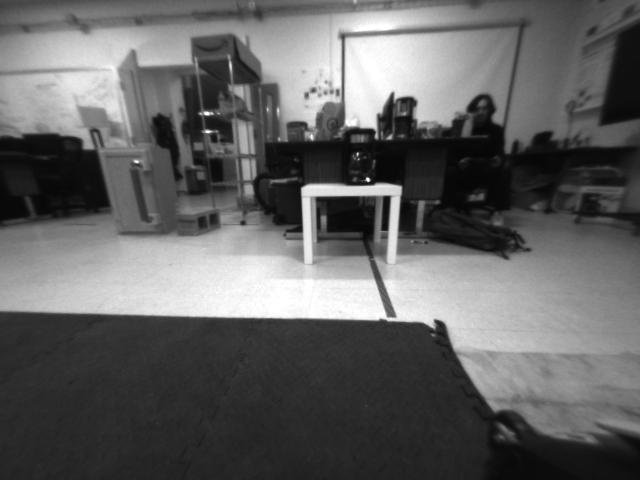coffee_pot: (338, 128, 383, 189)
